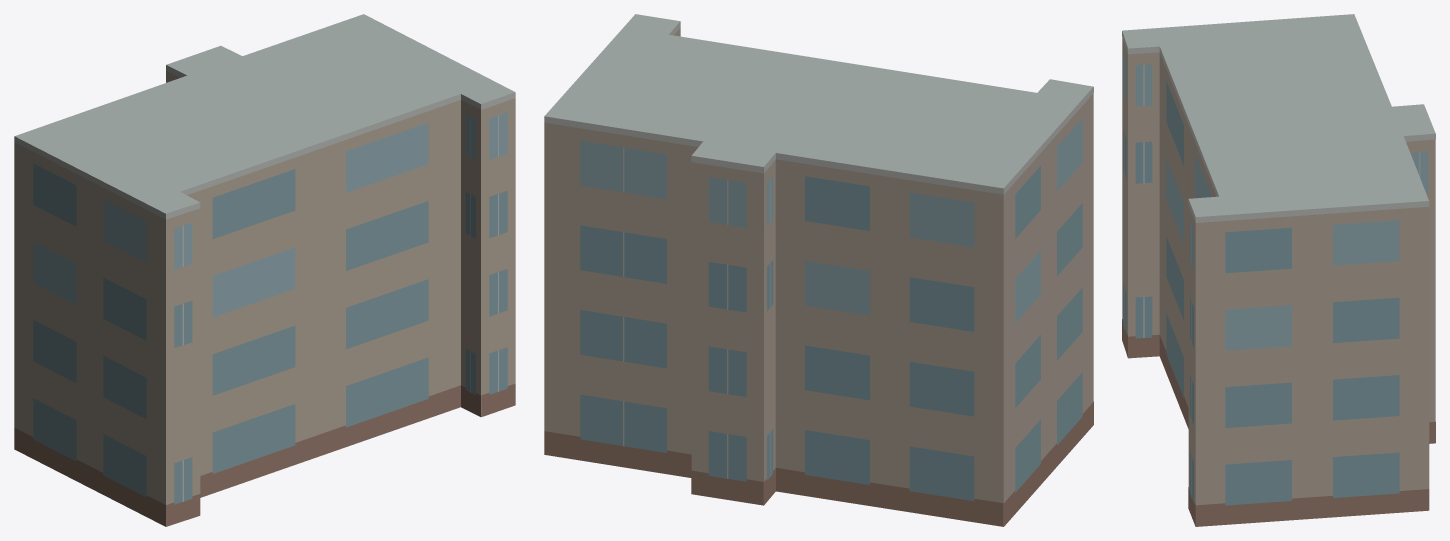
The model's file is survey-upis-32697065.glb.
The picture shows the model from 3 angles, left to right: view 1: azimuth 30°, elevation 25°; view 2: azimuth 150°, elevation 25°; view 3: azimuth 270°, elevation 25°; orthographic projection. The views are drawn at different scales.
Parts seen in each view (by area): view 1: survey-upis-32697065.tmp; view 2: survey-upis-32697065.tmp; view 3: survey-upis-32697065.tmp.
Part boxes in pixels (x1=…): survey-upis-32697065.tmp: x1=14, y1=14, x2=515, y2=526; survey-upis-32697065.tmp: x1=544, y1=14, x2=1093, y2=526; survey-upis-32697065.tmp: x1=1122, y1=14, x2=1435, y2=526.
Size of the model in its own units: 18.3 by 13 by 11.94.
